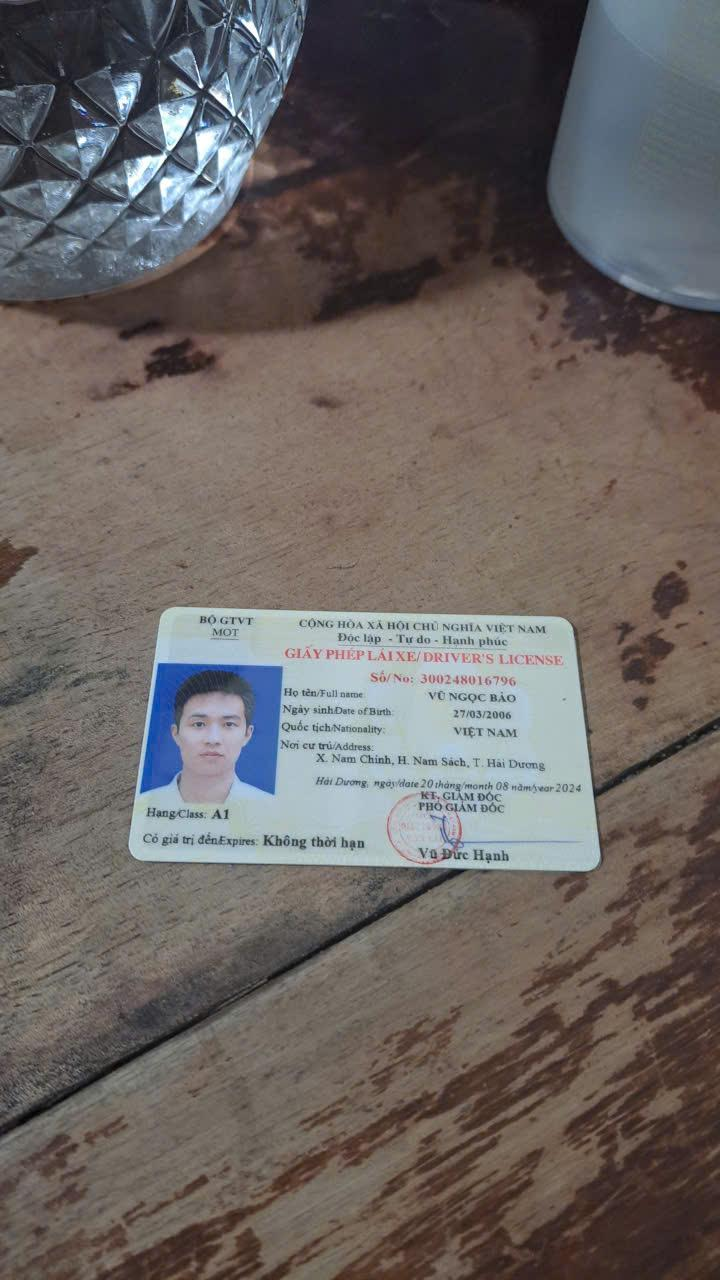gplx: (126, 601, 605, 878)
